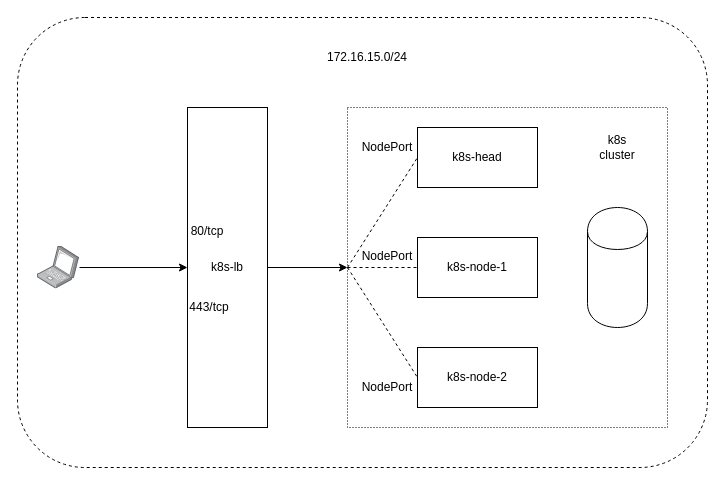
This 725x485 diagram has some shape labels left out. Here are the shapes that lost their labels. From the top down, the centre of each, then its label:
point 58,267: client
point 617,267: k8s-storage
